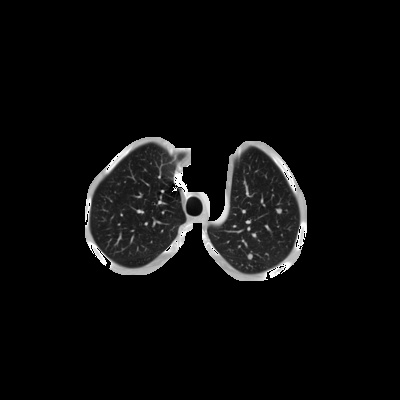PN: (247, 253, 253, 259)
